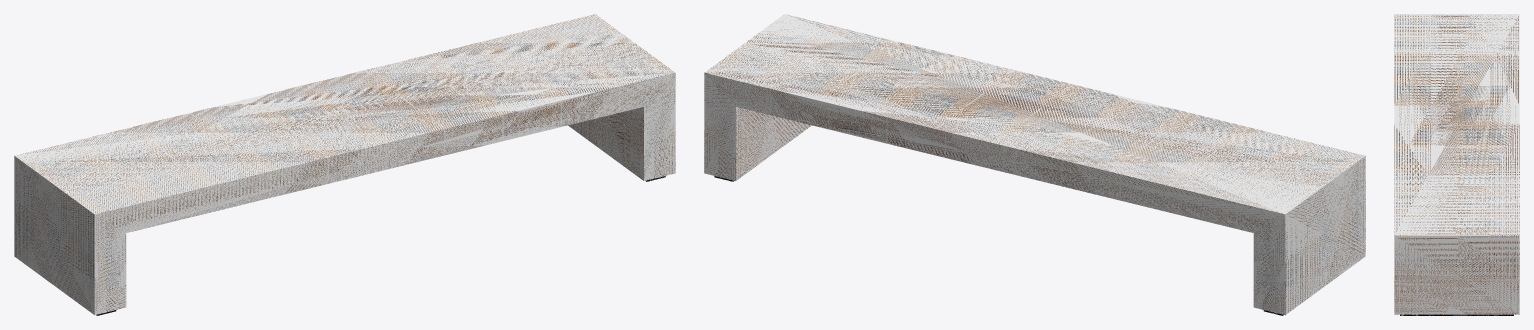
The picture shows the model from 3 angles, left to right: view 1: azimuth 30°, elevation 25°; view 2: azimuth 150°, elevation 25°; view 3: azimuth 270°, elevation 25°; orthographic projection. The views are drawn at different scales.
Visible parts, largest first — view 1: mesh1_mesh1-geometry; view 2: mesh1_mesh1-geometry; view 3: mesh1_mesh1-geometry.
Boxes of the visible parts, x1,y1,x2,y2 form: mesh1_mesh1-geometry: (14, 14, 675, 315); mesh1_mesh1-geometry: (704, 14, 1365, 315); mesh1_mesh1-geometry: (1394, 14, 1519, 315).
Bounding box in the file's own units: 0.959 × 0.1668 × 0.2293.
